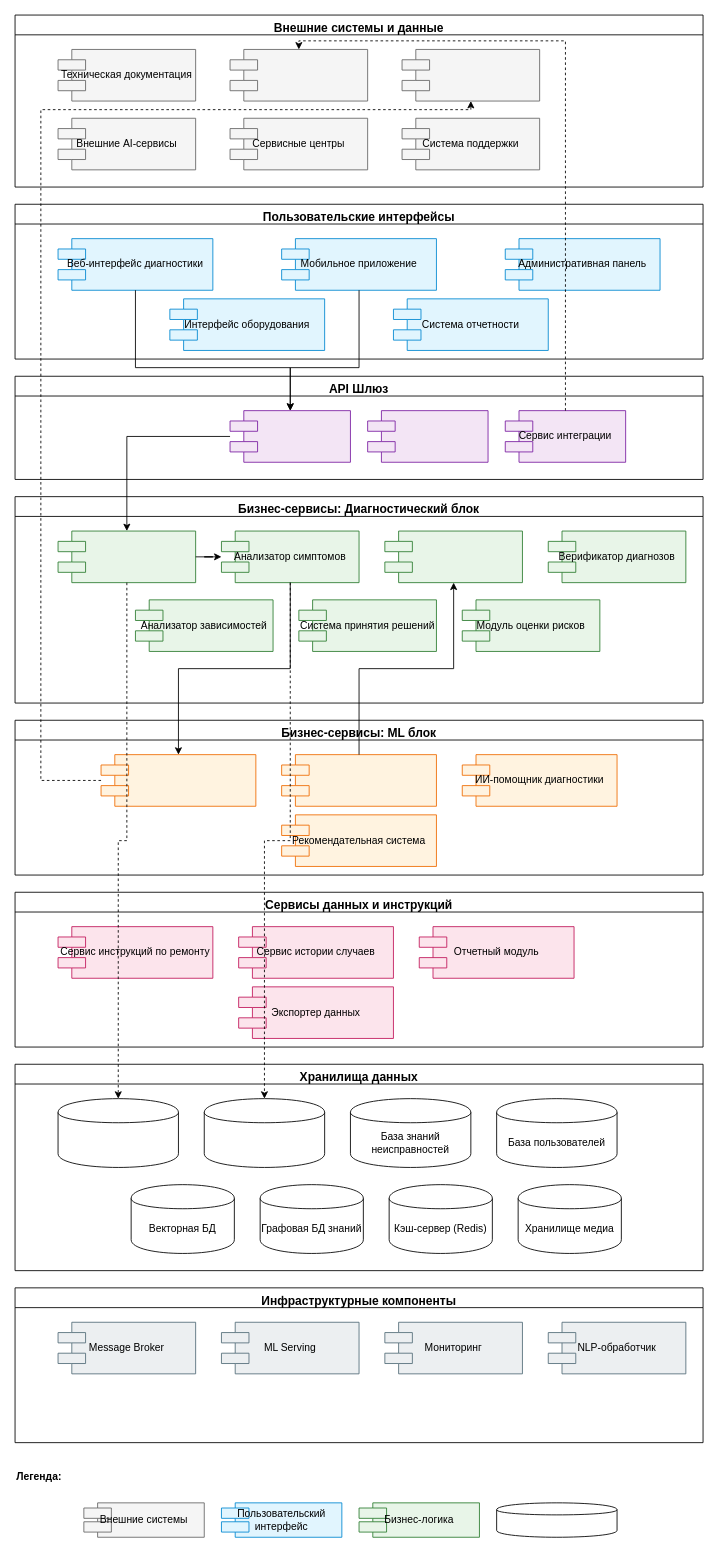
The diagram is 718 pixels wide and 1552 high, and some of its shapes have lost their labels. Here are the shapes that lost their labels. From the top down, the centre of each, then its label:
At point 298,75: "Каталог компонентов".
At point 470,75: "ML-инфраструктура".
At point 289,436: "API Gateway".
At point 427,436: "Сервис аутентификации".
At point 126,556: "Контроллер диагностики".
At point 453,556: "Генератор гипотез".
At point 178,780: "Сервис машинного обучения".
At point 358,780: "Классификатор неисправностей".
At point 117,1132: "База знаний оборудования".
At point 264,1132: "Справочник симптомов".
At point 556,1519: "Хранилище данных".
